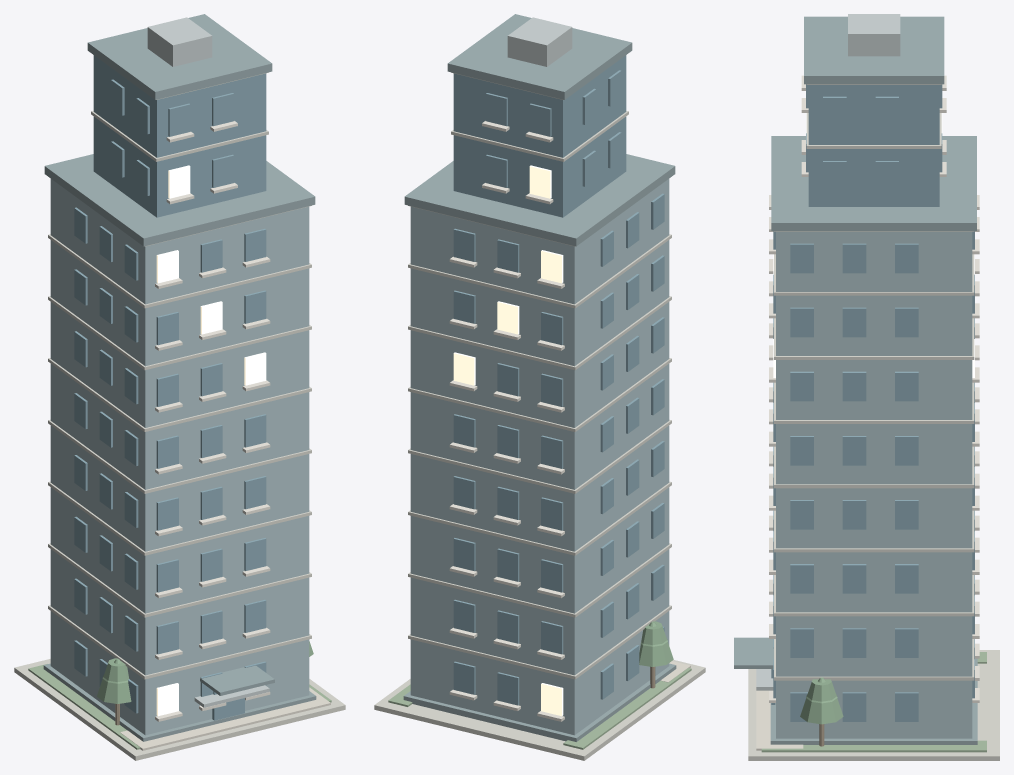
The model's file is remaster_office_3.glb.
3 renders of one model, left to right at view 1: azimuth 30°, elevation 25°; view 2: azimuth 150°, elevation 25°; view 3: azimuth 270°, elevation 25°, orthographic. The views are drawn at different scales.
Visible parts, largest first — view 1: remaster_office_3 blue, remaster_office_3 glass, remaster_office_3 roof, remaster_office_3 stone, remaster_office_3 white, remaster_office_3 warm, remaster_office_3 metal, remaster_office_3 cream, remaster_office_3 green, remaster_office_3 leaf; view 2: remaster_office_3 blue, remaster_office_3 glass, remaster_office_3 roof, remaster_office_3 stone, remaster_office_3 white, remaster_office_3 warm, remaster_office_3 metal, remaster_office_3 green, remaster_office_3 leaf; view 3: remaster_office_3 blue, remaster_office_3 glass, remaster_office_3 roof, remaster_office_3 stone, remaster_office_3 white, remaster_office_3 metal, remaster_office_3 green, remaster_office_3 leaf, remaster_office_3 cream.
Part boxes in pixels (bbox=[...]): remaster_office_3 blue: bbox=[50, 179, 309, 735]; remaster_office_3 glass: bbox=[74, 55, 266, 720]; remaster_office_3 roof: bbox=[43, 14, 316, 741]; remaster_office_3 stone: bbox=[14, 72, 345, 760]; remaster_office_3 white: bbox=[155, 121, 270, 721]; remaster_office_3 warm: bbox=[156, 165, 266, 716]; remaster_office_3 metal: bbox=[147, 17, 269, 707]; remaster_office_3 cream: bbox=[120, 687, 330, 750]; remaster_office_3 green: bbox=[28, 664, 331, 749]; remaster_office_3 leaf: bbox=[97, 641, 313, 703]; remaster_office_3 blue: bbox=[410, 179, 669, 735]; remaster_office_3 glass: bbox=[453, 55, 664, 705]; remaster_office_3 roof: bbox=[403, 14, 676, 741]; remaster_office_3 stone: bbox=[374, 72, 705, 760]; remaster_office_3 white: bbox=[449, 121, 564, 721]; remaster_office_3 warm: bbox=[453, 165, 563, 716]; remaster_office_3 metal: bbox=[507, 17, 572, 66]; remaster_office_3 green: bbox=[388, 668, 691, 749]; remaster_office_3 leaf: bbox=[639, 621, 673, 666]; remaster_office_3 blue: bbox=[776, 231, 972, 738]; remaster_office_3 glass: bbox=[771, 84, 974, 721]; remaster_office_3 roof: bbox=[734, 16, 977, 744]; remaster_office_3 stone: bbox=[748, 84, 999, 760]; remaster_office_3 white: bbox=[769, 75, 979, 702]; remaster_office_3 metal: bbox=[756, 14, 900, 690]; remaster_office_3 green: bbox=[761, 652, 986, 752]; remaster_office_3 leaf: bbox=[800, 677, 843, 724]; remaster_office_3 cream: bbox=[756, 690, 803, 750].
Size of the model in its own units: 9.64 by 28.8 by 10.15.
